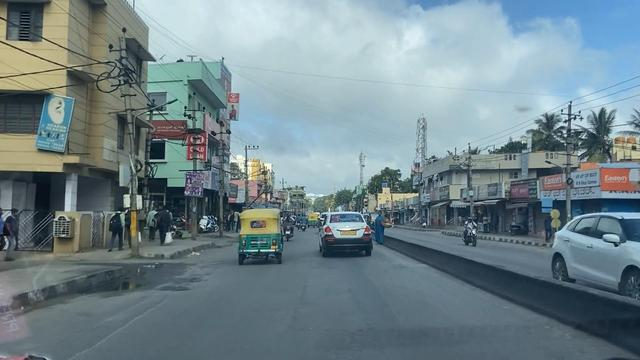LMV: (237, 206, 286, 263), (318, 210, 375, 257)
RoadDamages: (89, 298, 162, 352)
